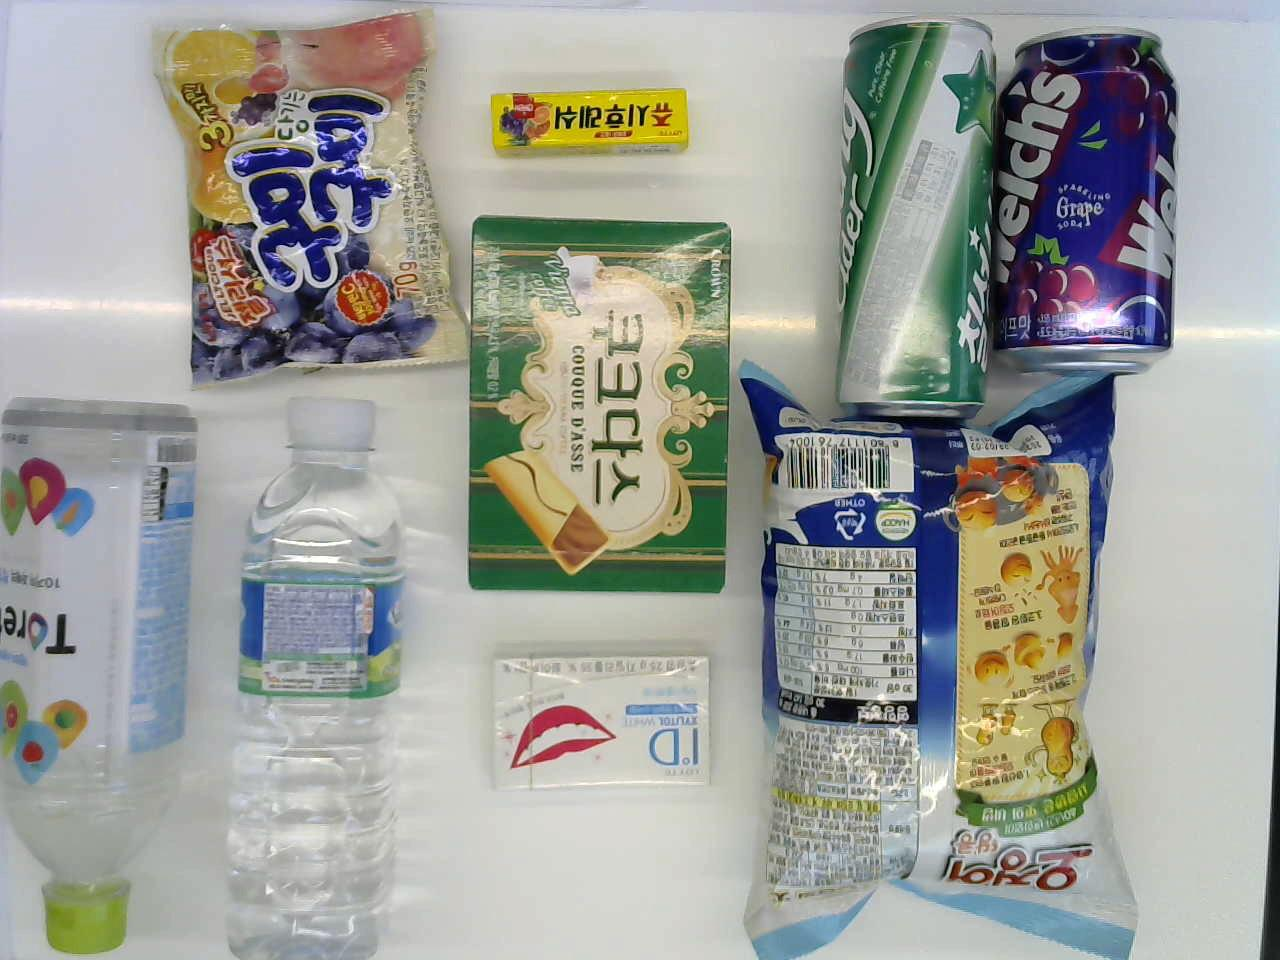ID_gum: (480, 637, 703, 798)
cidar: (809, 15, 1001, 418)
couque_coffee: (456, 212, 731, 610)
gumi_gumi: (150, 14, 460, 377)
juicyfresh: (478, 81, 687, 157)
samdasu: (235, 392, 407, 954)
squid_peanut: (733, 369, 1135, 953)
toreta: (3, 393, 202, 960)
welchs: (992, 28, 1186, 367)
